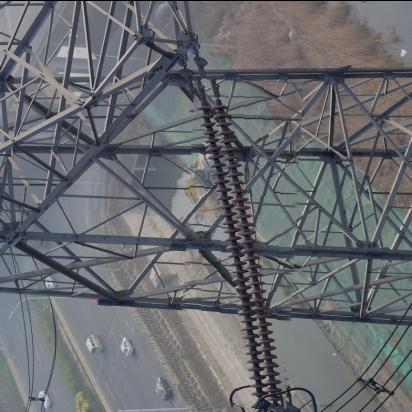insulator: (183, 79, 301, 409)
